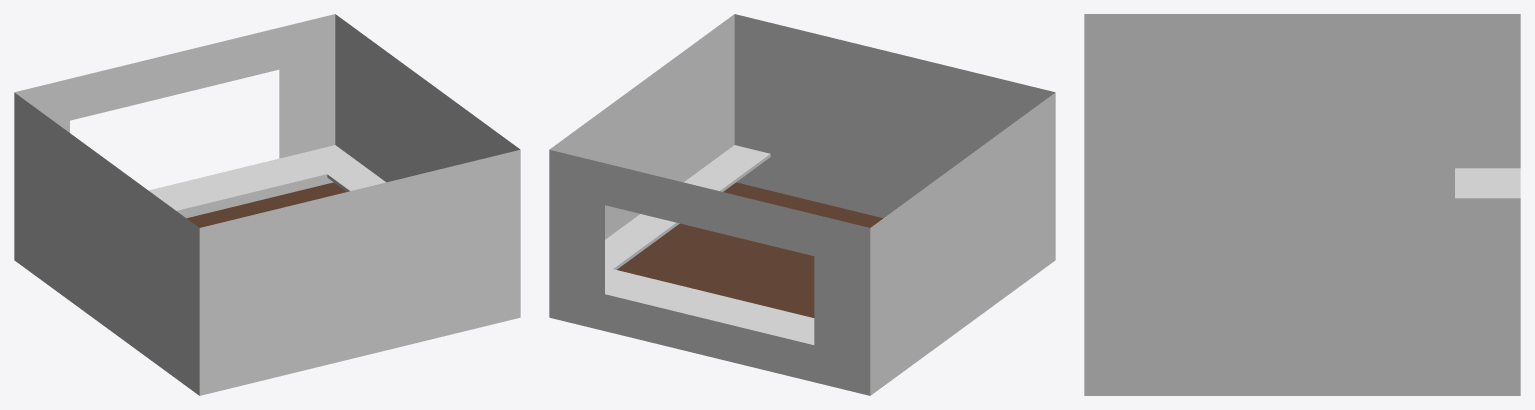
File: Room.fbx
The picture shows the model from 3 angles, left to right: view 1: azimuth 30°, elevation 25°; view 2: azimuth 150°, elevation 25°; view 3: azimuth 270°, elevation 25°; orthographic projection. The views are drawn at different scales.
Visible parts, largest first — view 1: Room, Bench; view 2: Room, Bench; view 3: Room, Bench.
Boxes of the visible parts, x1=… form: Room: x1=14, y1=14, x2=520, y2=395; Bench: x1=149, y1=145, x2=385, y2=213; Room: x1=549, y1=14, x2=1055, y2=395; Bench: x1=605, y1=145, x2=814, y2=344; Room: x1=1084, y1=14, x2=1520, y2=395; Bench: x1=1455, y1=168, x2=1520, y2=198.
Size of the model in its own units: 1000 by 500 by 1000.
